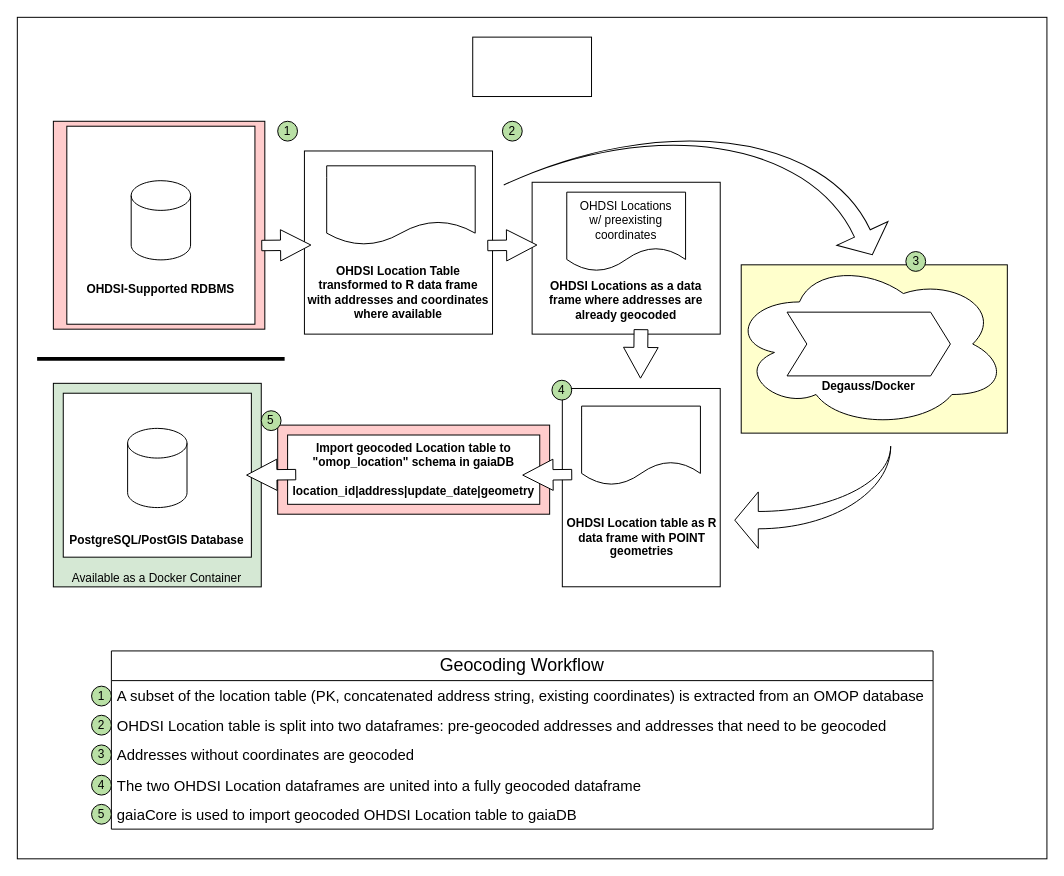
Image size: 1064x876. Some labels were removed from this diagram. The shapes that lost their labels are listed below. From the top down, each one's centre as x and y in pixels, then its label:
At point 532,66: "Geocoding".
At point 160,220: "OMOP Database".
At point 400,205: "OHDSI Location Table + Addresses + Coordinates".
At point 868,343: "Geocoder (facilitated by gaiaCore function)".
At point 640,445: "Fully geocoded OHDSI Location Table".
At point 157,467: "gaiaDB".
